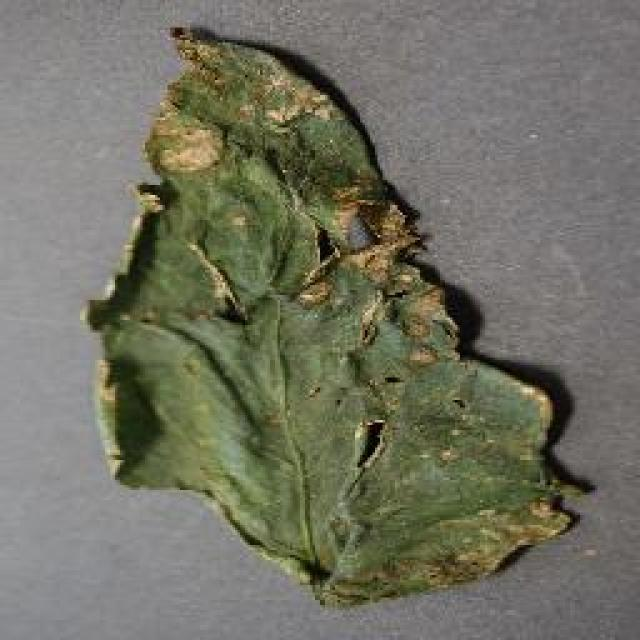Tomato___Bacterial_spot: (77, 29, 597, 614)
